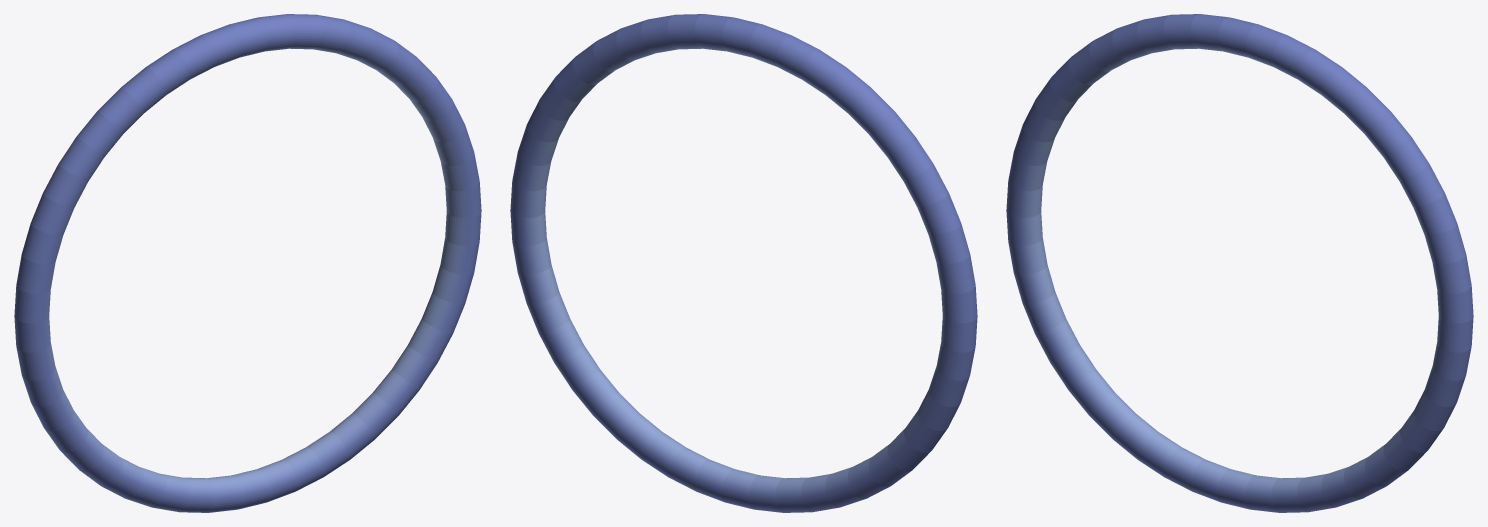
3 views of the same model, side by side, from view 1: azimuth 30°, elevation 25°; view 2: azimuth 150°, elevation 25°; view 3: azimuth 330°, elevation 25° (orthographic).
Visible parts, largest first — view 1: world; view 2: world; view 3: world.
Boxes of the visible parts, x1=… form: world: x1=14, y1=14, x2=481, y2=512; world: x1=510, y1=14, x2=977, y2=512; world: x1=1006, y1=14, x2=1473, y2=512.
Size of the model in its own units: 30.67 by 30.61 by 2.
